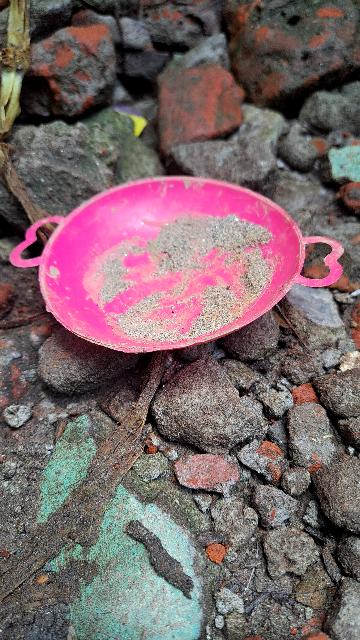hardplastic: (40, 174, 306, 376)
